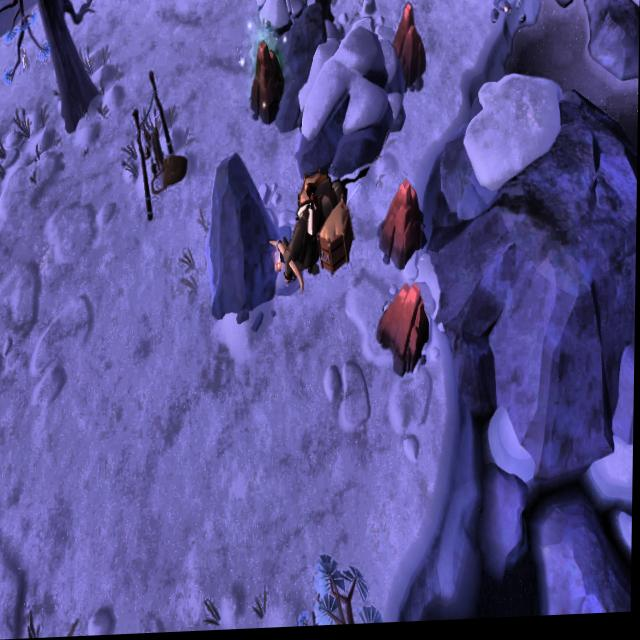rock_t5: (376, 282, 436, 381), (376, 181, 428, 266), (249, 40, 289, 134), (391, 2, 428, 101)
